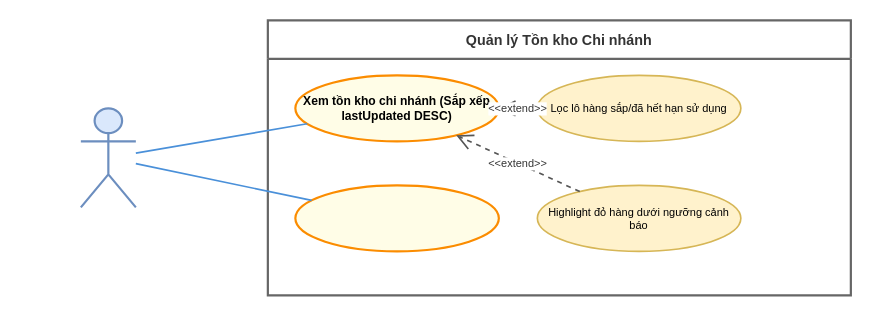
This 871x315 diagram has some shape labels left out. The shapes that lost their labels are listed below. From the top down, each one's centre as x and y in pixels, then its label:
point (107, 157): Quản lý chi nhánh (MANAGER)
point (396, 218): Cấu hình ngưỡng cảnh báo tồn kho chi nhánh
